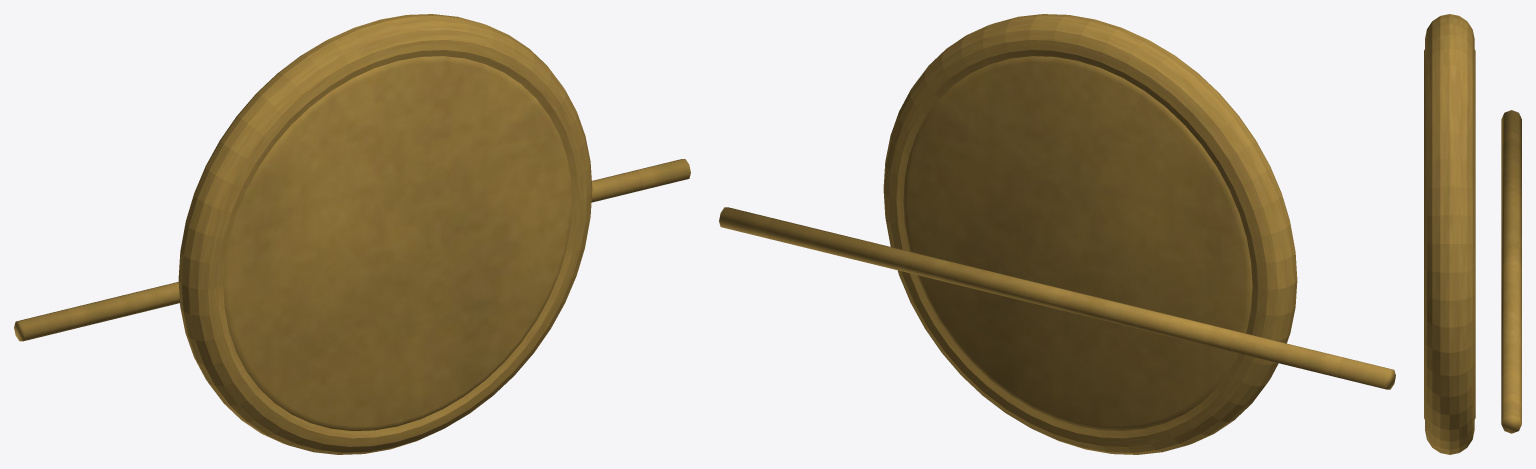
3 renders of one model, left to right at view 1: azimuth 30°, elevation 25°; view 2: azimuth 150°, elevation 25°; view 3: azimuth 270°, elevation 25°, orthographic. The views are drawn at different scales.
Visible parts, largest first — view 1: kopf, rand, nadel; view 2: kopf, rand, nadel; view 3: rand, nadel, kopf.
Boxes of the visible parts, bbox=[...] form: kopf: bbox=[223, 56, 572, 430]; rand: bbox=[178, 14, 592, 454]; nadel: bbox=[14, 159, 690, 341]; kopf: bbox=[903, 56, 1252, 430]; rand: bbox=[883, 14, 1297, 454]; nadel: bbox=[719, 207, 1395, 389]; rand: bbox=[1425, 14, 1474, 454]; nadel: bbox=[1501, 110, 1521, 433]; kopf: bbox=[1424, 49, 1475, 419].
Size of the model in its own units: 0.035 by 0.0214 by 0.00475.
3 materials, 3 textured.
